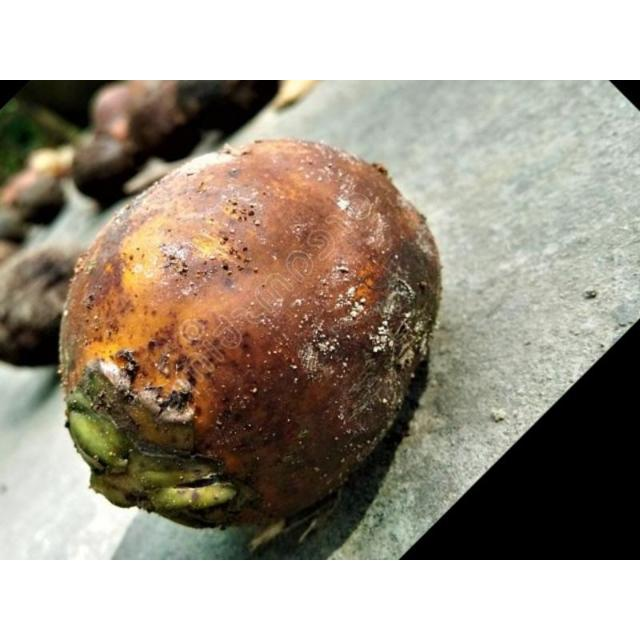damaged: (57, 138, 443, 533)
